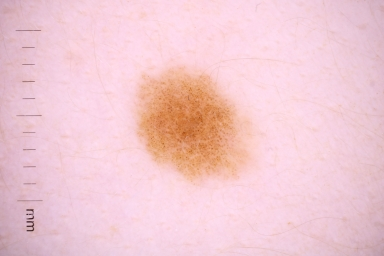melanoma: (134, 65, 259, 188)
